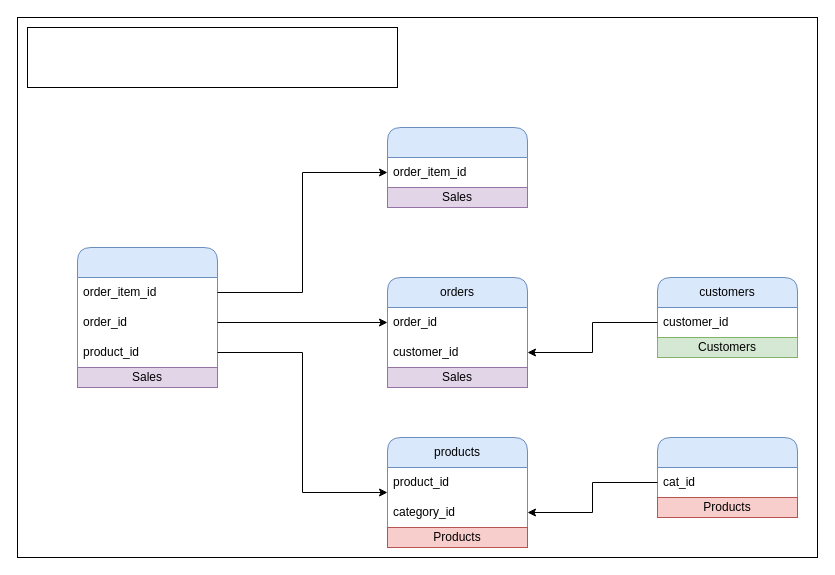
Image size: 835x575. Some labels were removed from this diagram. The shapes that lost their labels are listed below. From the top down, each one's box as (x1, y1, x2, y2) in pixels, then its label:
(26, 26, 398, 88): Integration Mode l (how the tables are related)
(386, 126, 528, 208): returns
(76, 246, 218, 388): order_items
(656, 436, 798, 518): categories
